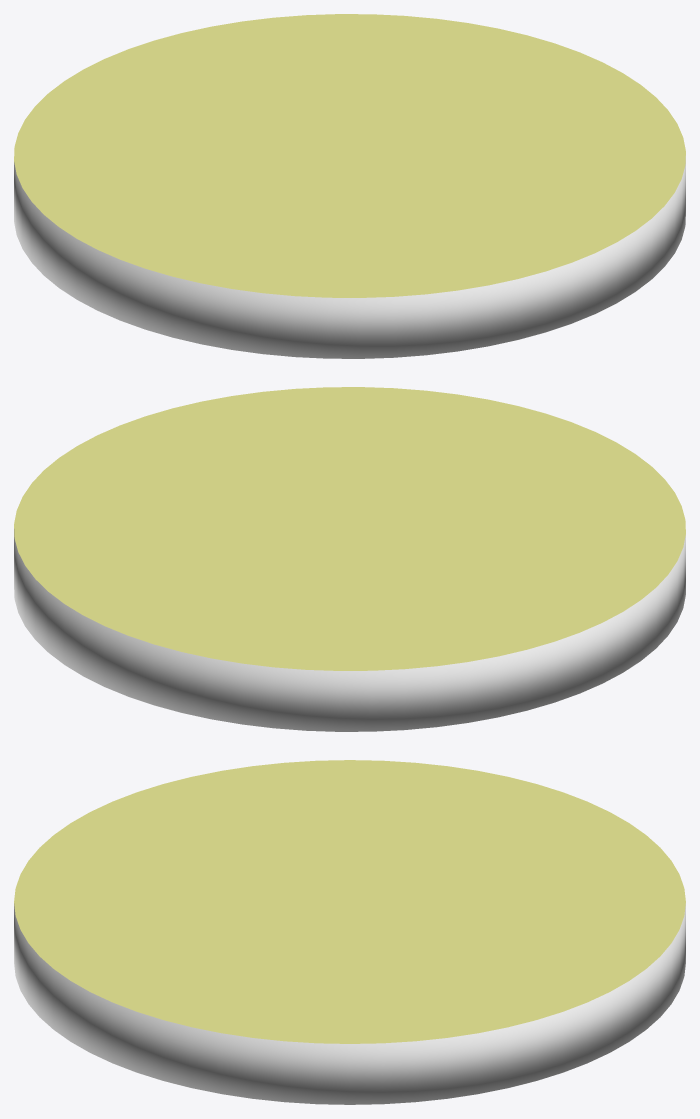
File: sand plane.fbx
3 renders of one model, top to bottom at view 1: azimuth 30°, elevation 25°; view 2: azimuth 150°, elevation 25°; view 3: azimuth 270°, elevation 25°, orthographic.
Visible parts, largest first — view 1: sand plan; view 2: sand plan; view 3: sand plan.
Boxes of the visible parts, box(x1,y1,x2,y2) form: sand plan: box(14, 14, 685, 358); sand plan: box(14, 387, 685, 731); sand plan: box(14, 760, 685, 1104).
Bounding box in the file's own units: 200 × 20 × 200.
